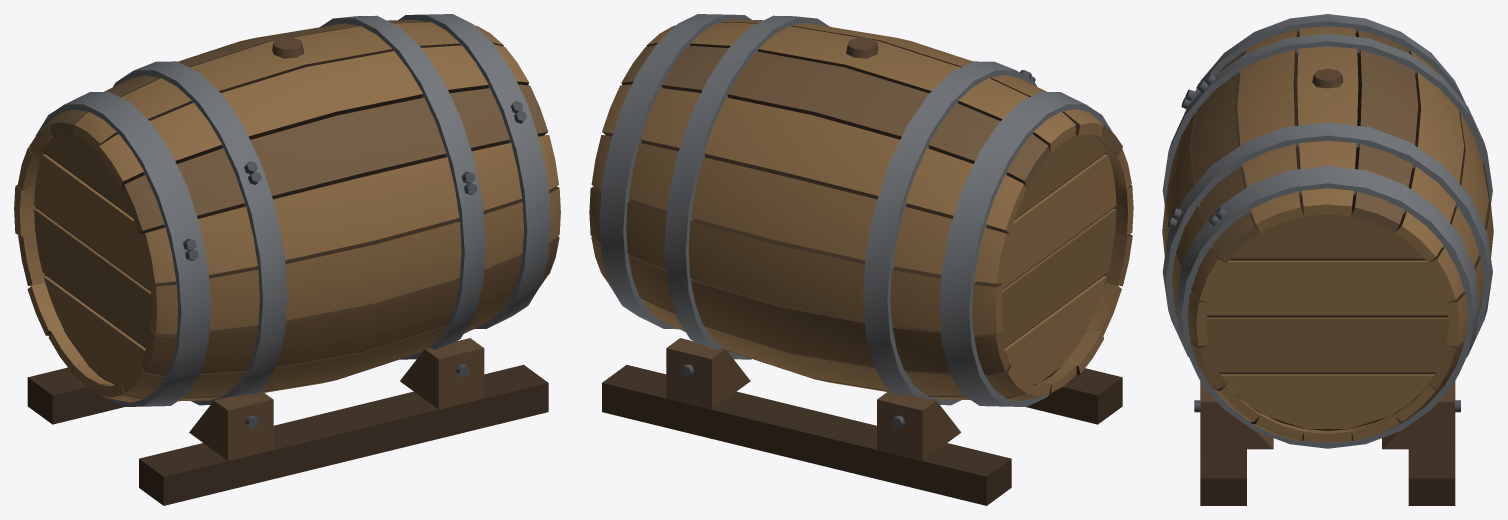
The model's file is SM_LPD_Crate_BarrelSide_01.fbx.
3 renders of one model, left to right at view 1: azimuth 30°, elevation 25°; view 2: azimuth 150°, elevation 25°; view 3: azimuth 270°, elevation 25°, orthographic. The views are drawn at different scales.
Parts seen in each view (by area): view 1: SM_LPD_Crate_BarrelSide_01; view 2: SM_LPD_Crate_BarrelSide_01; view 3: SM_LPD_Crate_BarrelSide_01.
Part boxes in pixels (x1,y1,x2,y2): SM_LPD_Crate_BarrelSide_01: (14, 14, 560, 505); SM_LPD_Crate_BarrelSide_01: (589, 14, 1133, 505); SM_LPD_Crate_BarrelSide_01: (1162, 14, 1493, 505).
Size of the model in its own units: 0.8025 by 0.69 by 0.6043.
